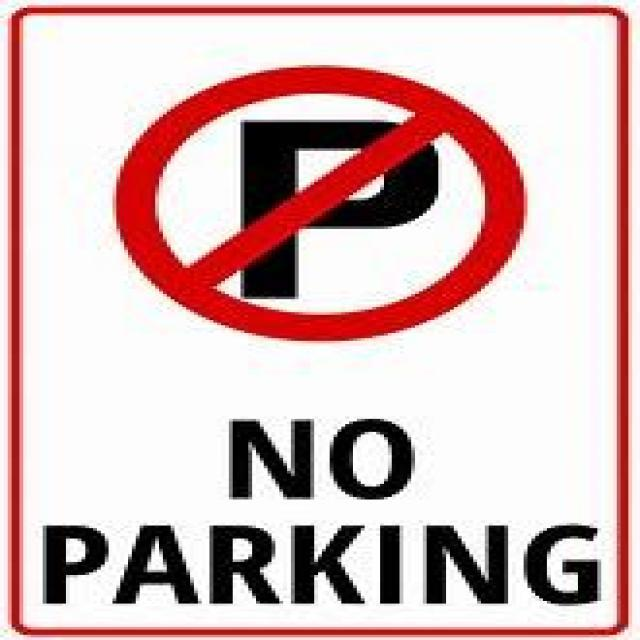no parking: (93, 58, 541, 350)
